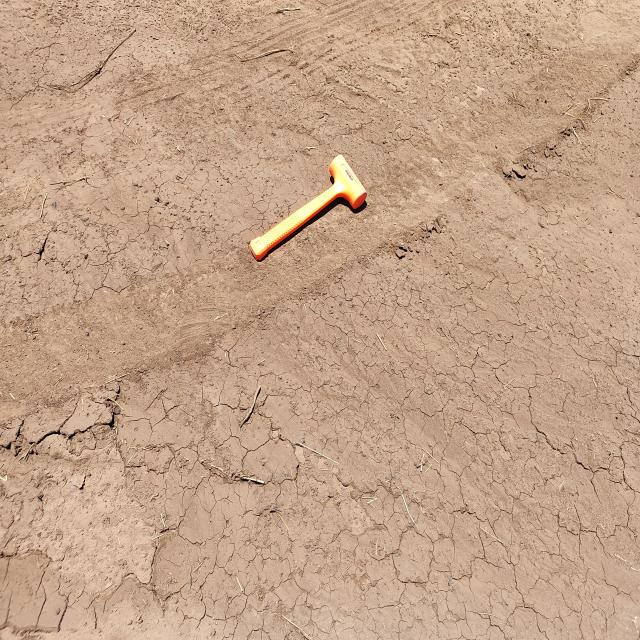Orange_hammer: (249, 153, 367, 262)
